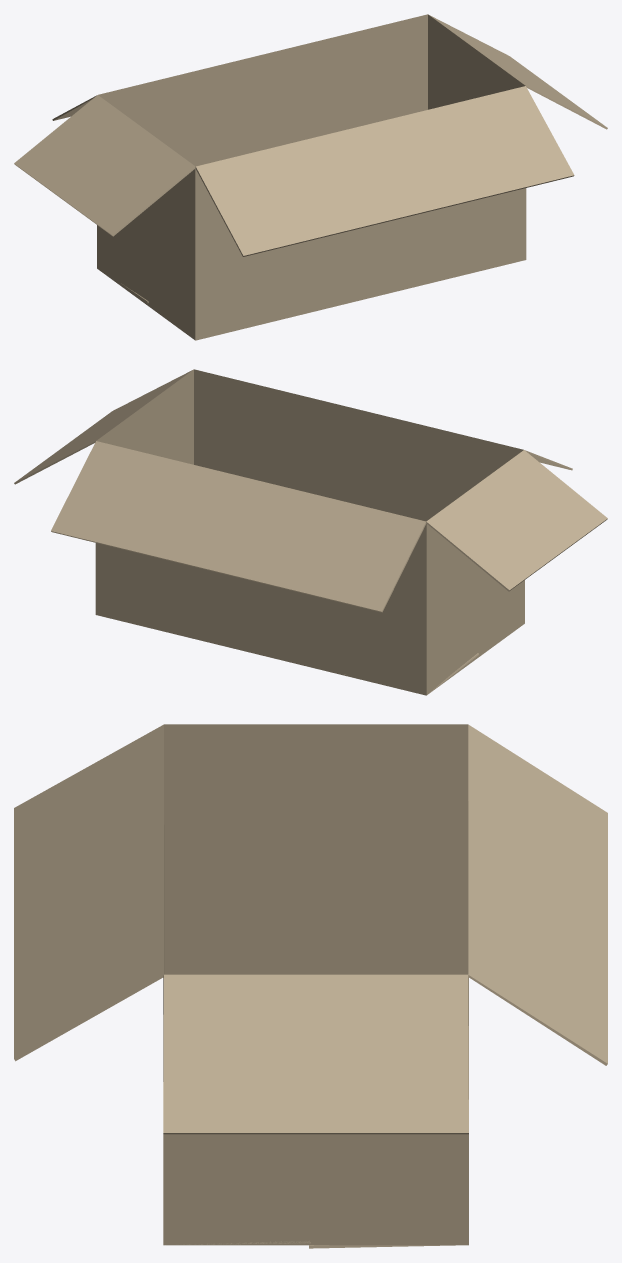
File: danbo.fbx
3 views of the same model, one above another, from view 1: azimuth 30°, elevation 25°; view 2: azimuth 150°, elevation 25°; view 3: azimuth 270°, elevation 25° (orthographic). The views are drawn at different scales.
Visible parts, largest first — view 1: Cube.001; view 2: Cube.001; view 3: Cube.001.
Boxes of the visible parts, x1=… form: Cube.001: x1=14, y1=14, x2=607, y2=340; Cube.001: x1=14, y1=369, x2=607, y2=695; Cube.001: x1=14, y1=724, x2=607, y2=1248.
Bounding box in the file's own units: 602 × 205 × 402.
